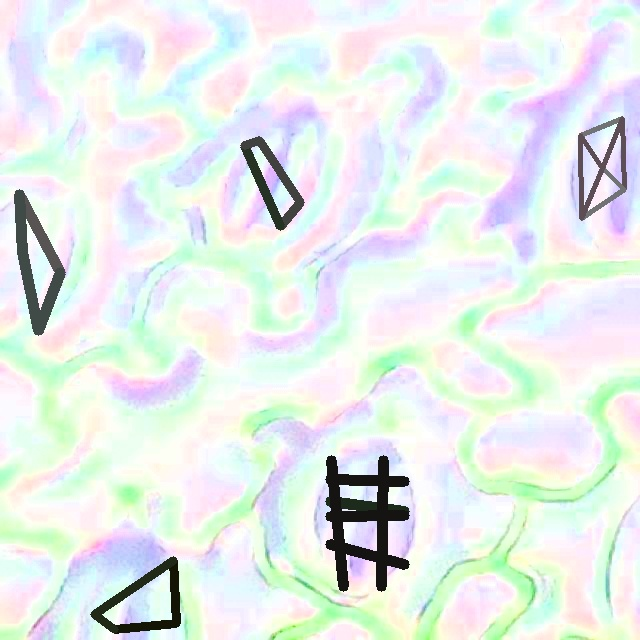close: (18, 189, 65, 335)
open: (326, 455, 408, 590), (90, 556, 180, 633), (240, 136, 304, 229), (579, 117, 625, 219)
